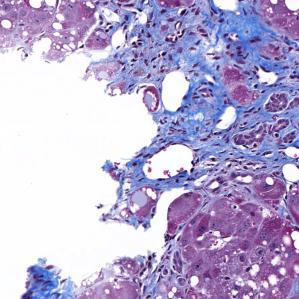fibrosis: (147, 68, 292, 170), (100, 8, 264, 91)
